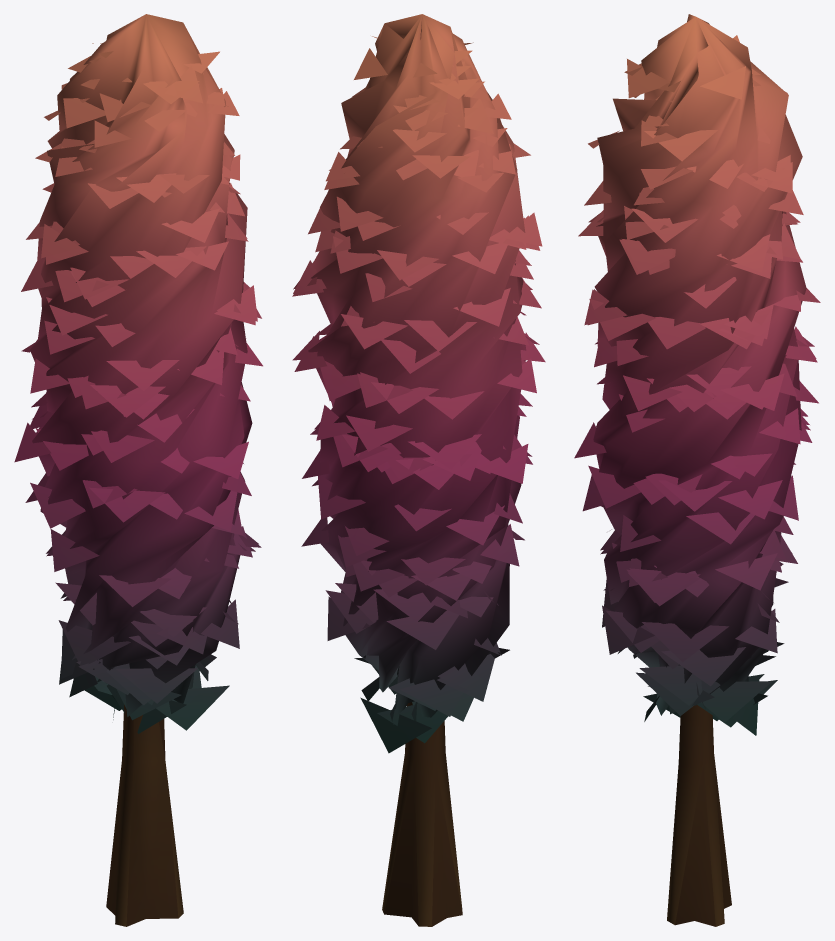
File: Tree_5L.fbx
3 renders of one model, left to right at view 1: azimuth 30°, elevation 25°; view 2: azimuth 150°, elevation 25°; view 3: azimuth 270°, elevation 25°, orthographic.
Visible parts, largest first — view 1: Tree_5L; view 2: Tree_5L; view 3: Tree_5L.
Boxes of the visible parts, <box> form: Tree_5L: <box>14,14,262,926</box>; Tree_5L: <box>292,14,545,926</box>; Tree_5L: <box>574,14,820,926</box>.
Bounding box in the file's own units: 436 × 1692 × 423.
Materials: 1 (1 with a texture image).
